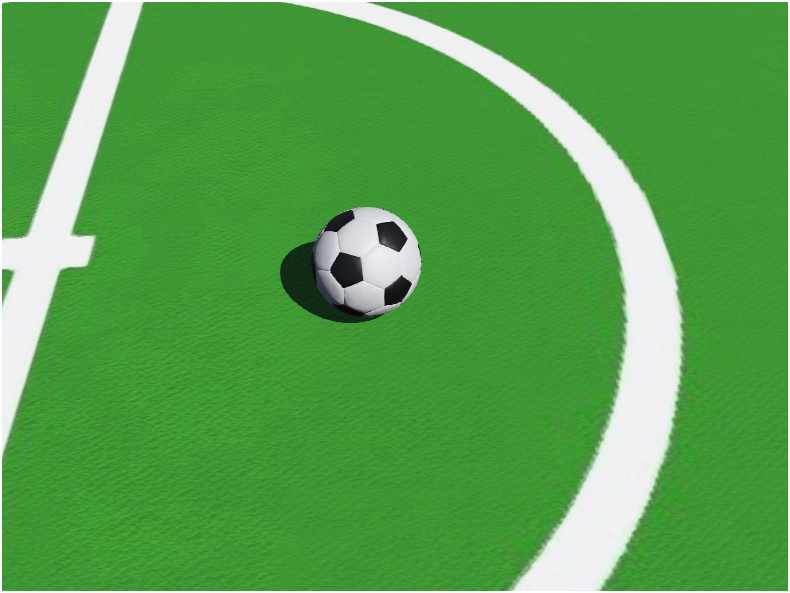Ball: (243, 122, 474, 398)
